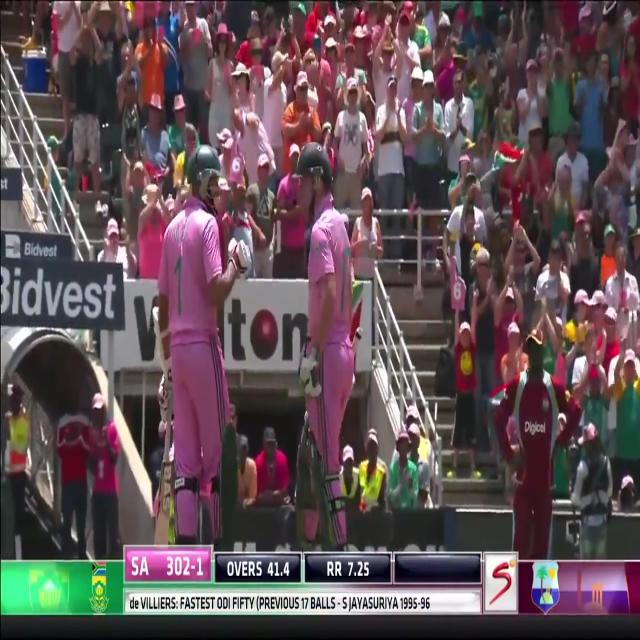Ball: (153, 146, 248, 554), (297, 149, 365, 553)
Fielder: (493, 322, 584, 564)
